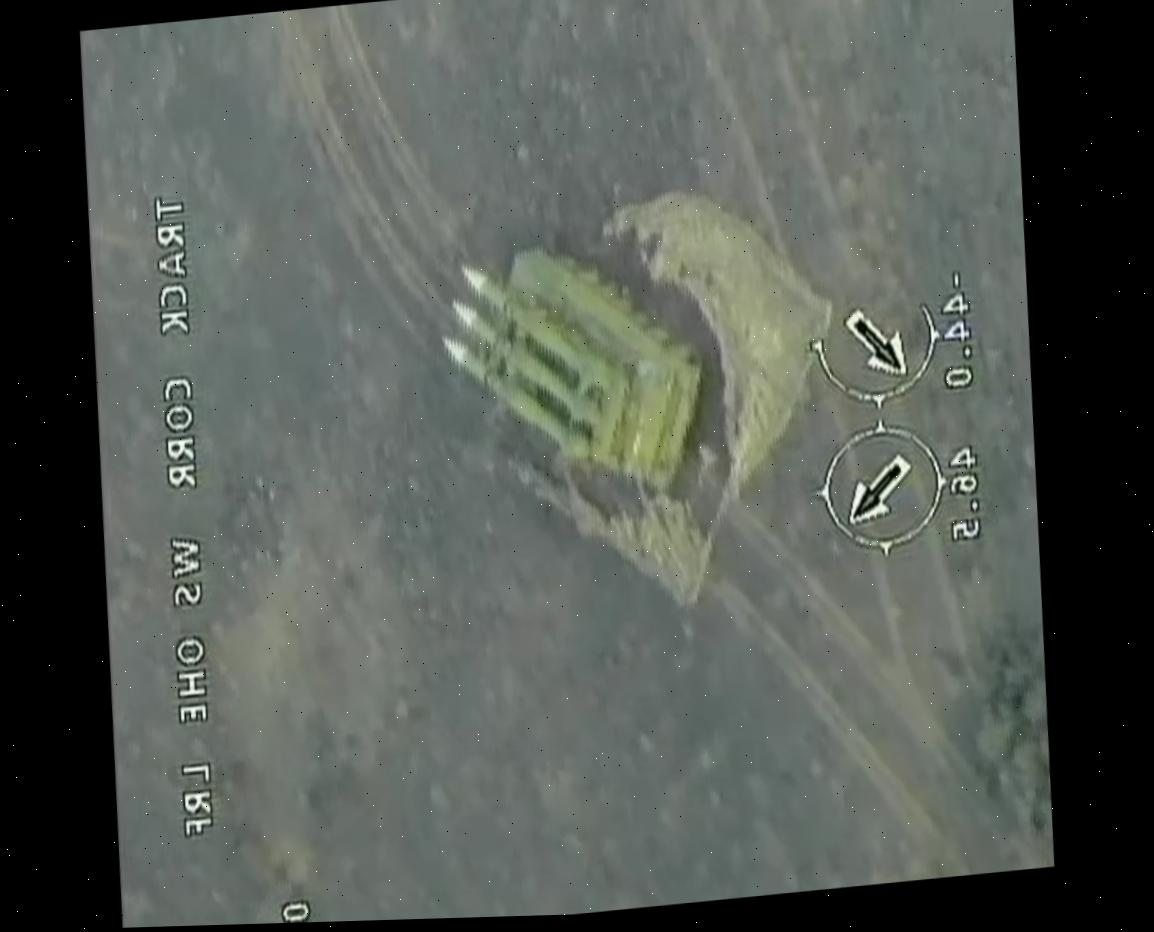armored_car: (420, 233, 717, 514)
